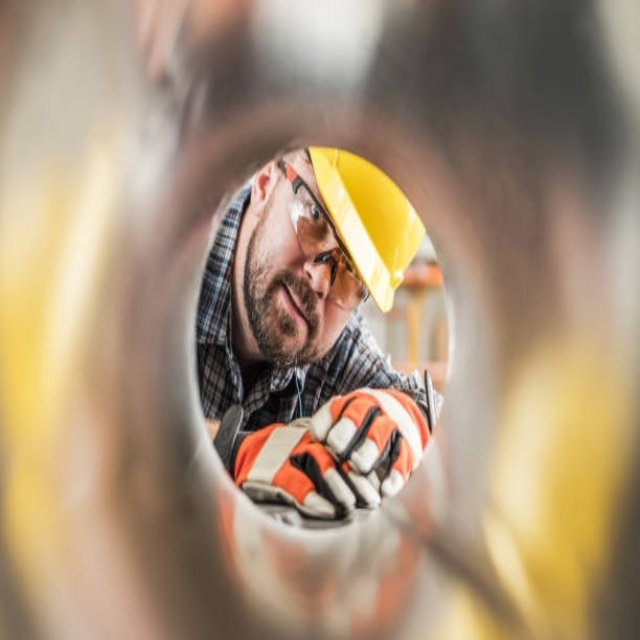Gafas: (275, 161, 370, 313)
Guantes: (215, 400, 382, 522), (307, 386, 431, 507)
Sin_mascara: (260, 269, 315, 353)
